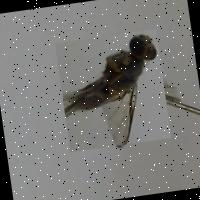Oriental-fruit-fly: (55, 29, 171, 152)
